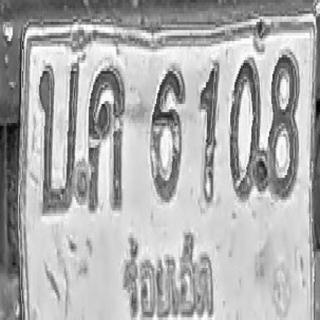A04: (86, 63, 125, 211)
A26: (37, 60, 80, 213)
N00: (229, 57, 265, 200)
N01: (198, 60, 220, 205)
N06: (151, 67, 185, 201)
N08: (265, 51, 299, 198)
P54: (117, 230, 216, 320)
